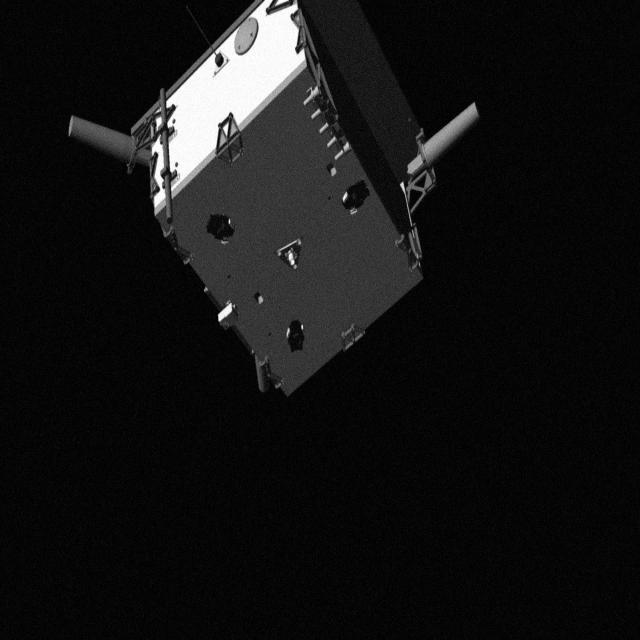medium_debris: (68, 0, 488, 398)
